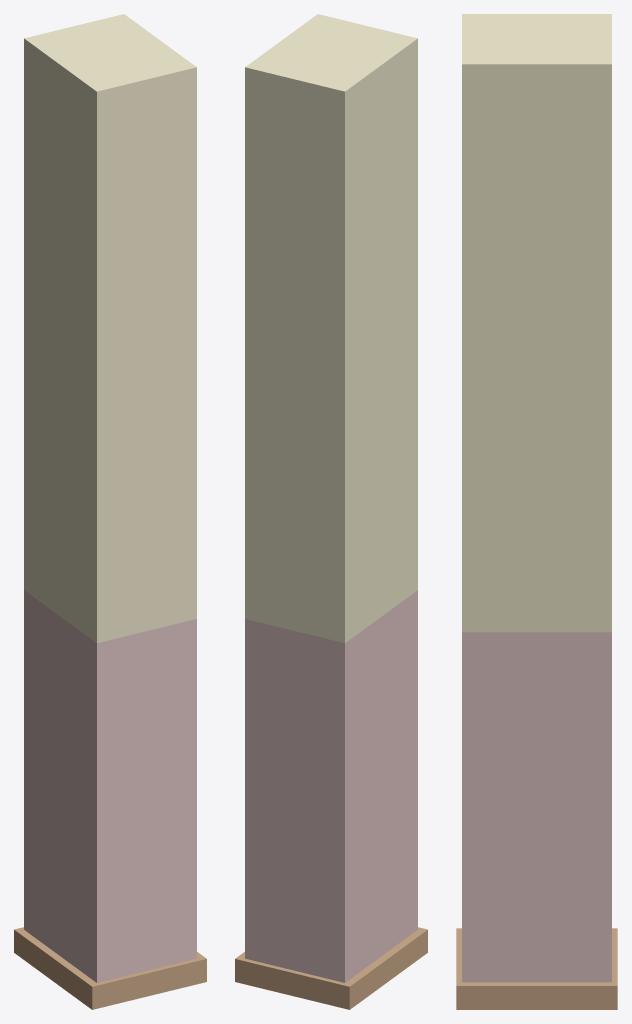
Rendered from pillar_1.fbx.
3 renders of one model, left to right at view 1: azimuth 30°, elevation 25°; view 2: azimuth 150°, elevation 25°; view 3: azimuth 270°, elevation 25°, orthographic. The views are drawn at different scales.
Visible parts, largest first — view 1: Cube; view 2: Cube; view 3: Cube.
Boxes of the visible parts, x1,y1,x2,y2 form: Cube: (14, 14, 206, 1009); Cube: (235, 14, 427, 1009); Cube: (456, 14, 617, 1009).
Size of the model in its own units: 11.72 by 89.3 by 13.85.
